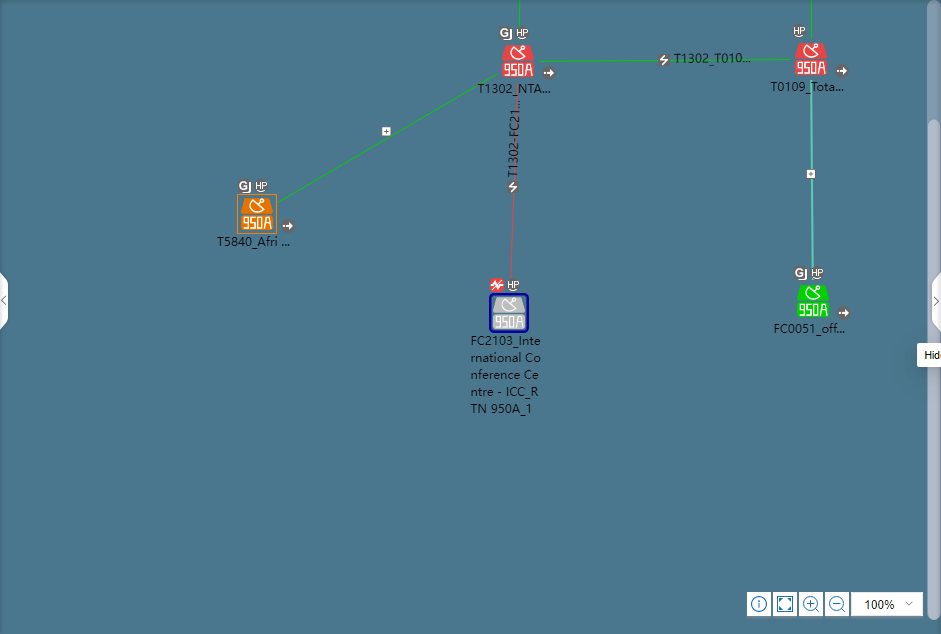Link_Blue: (809, 121, 819, 266)
Link_Green: (279, 73, 494, 199)
Link_Red: (509, 79, 525, 258)
RTN_Gray: (491, 296, 531, 330)
RTN_Green: (797, 285, 831, 318)
RTN_Orange: (238, 196, 278, 236)
RTN_Red: (503, 44, 537, 77), (797, 44, 831, 77)
